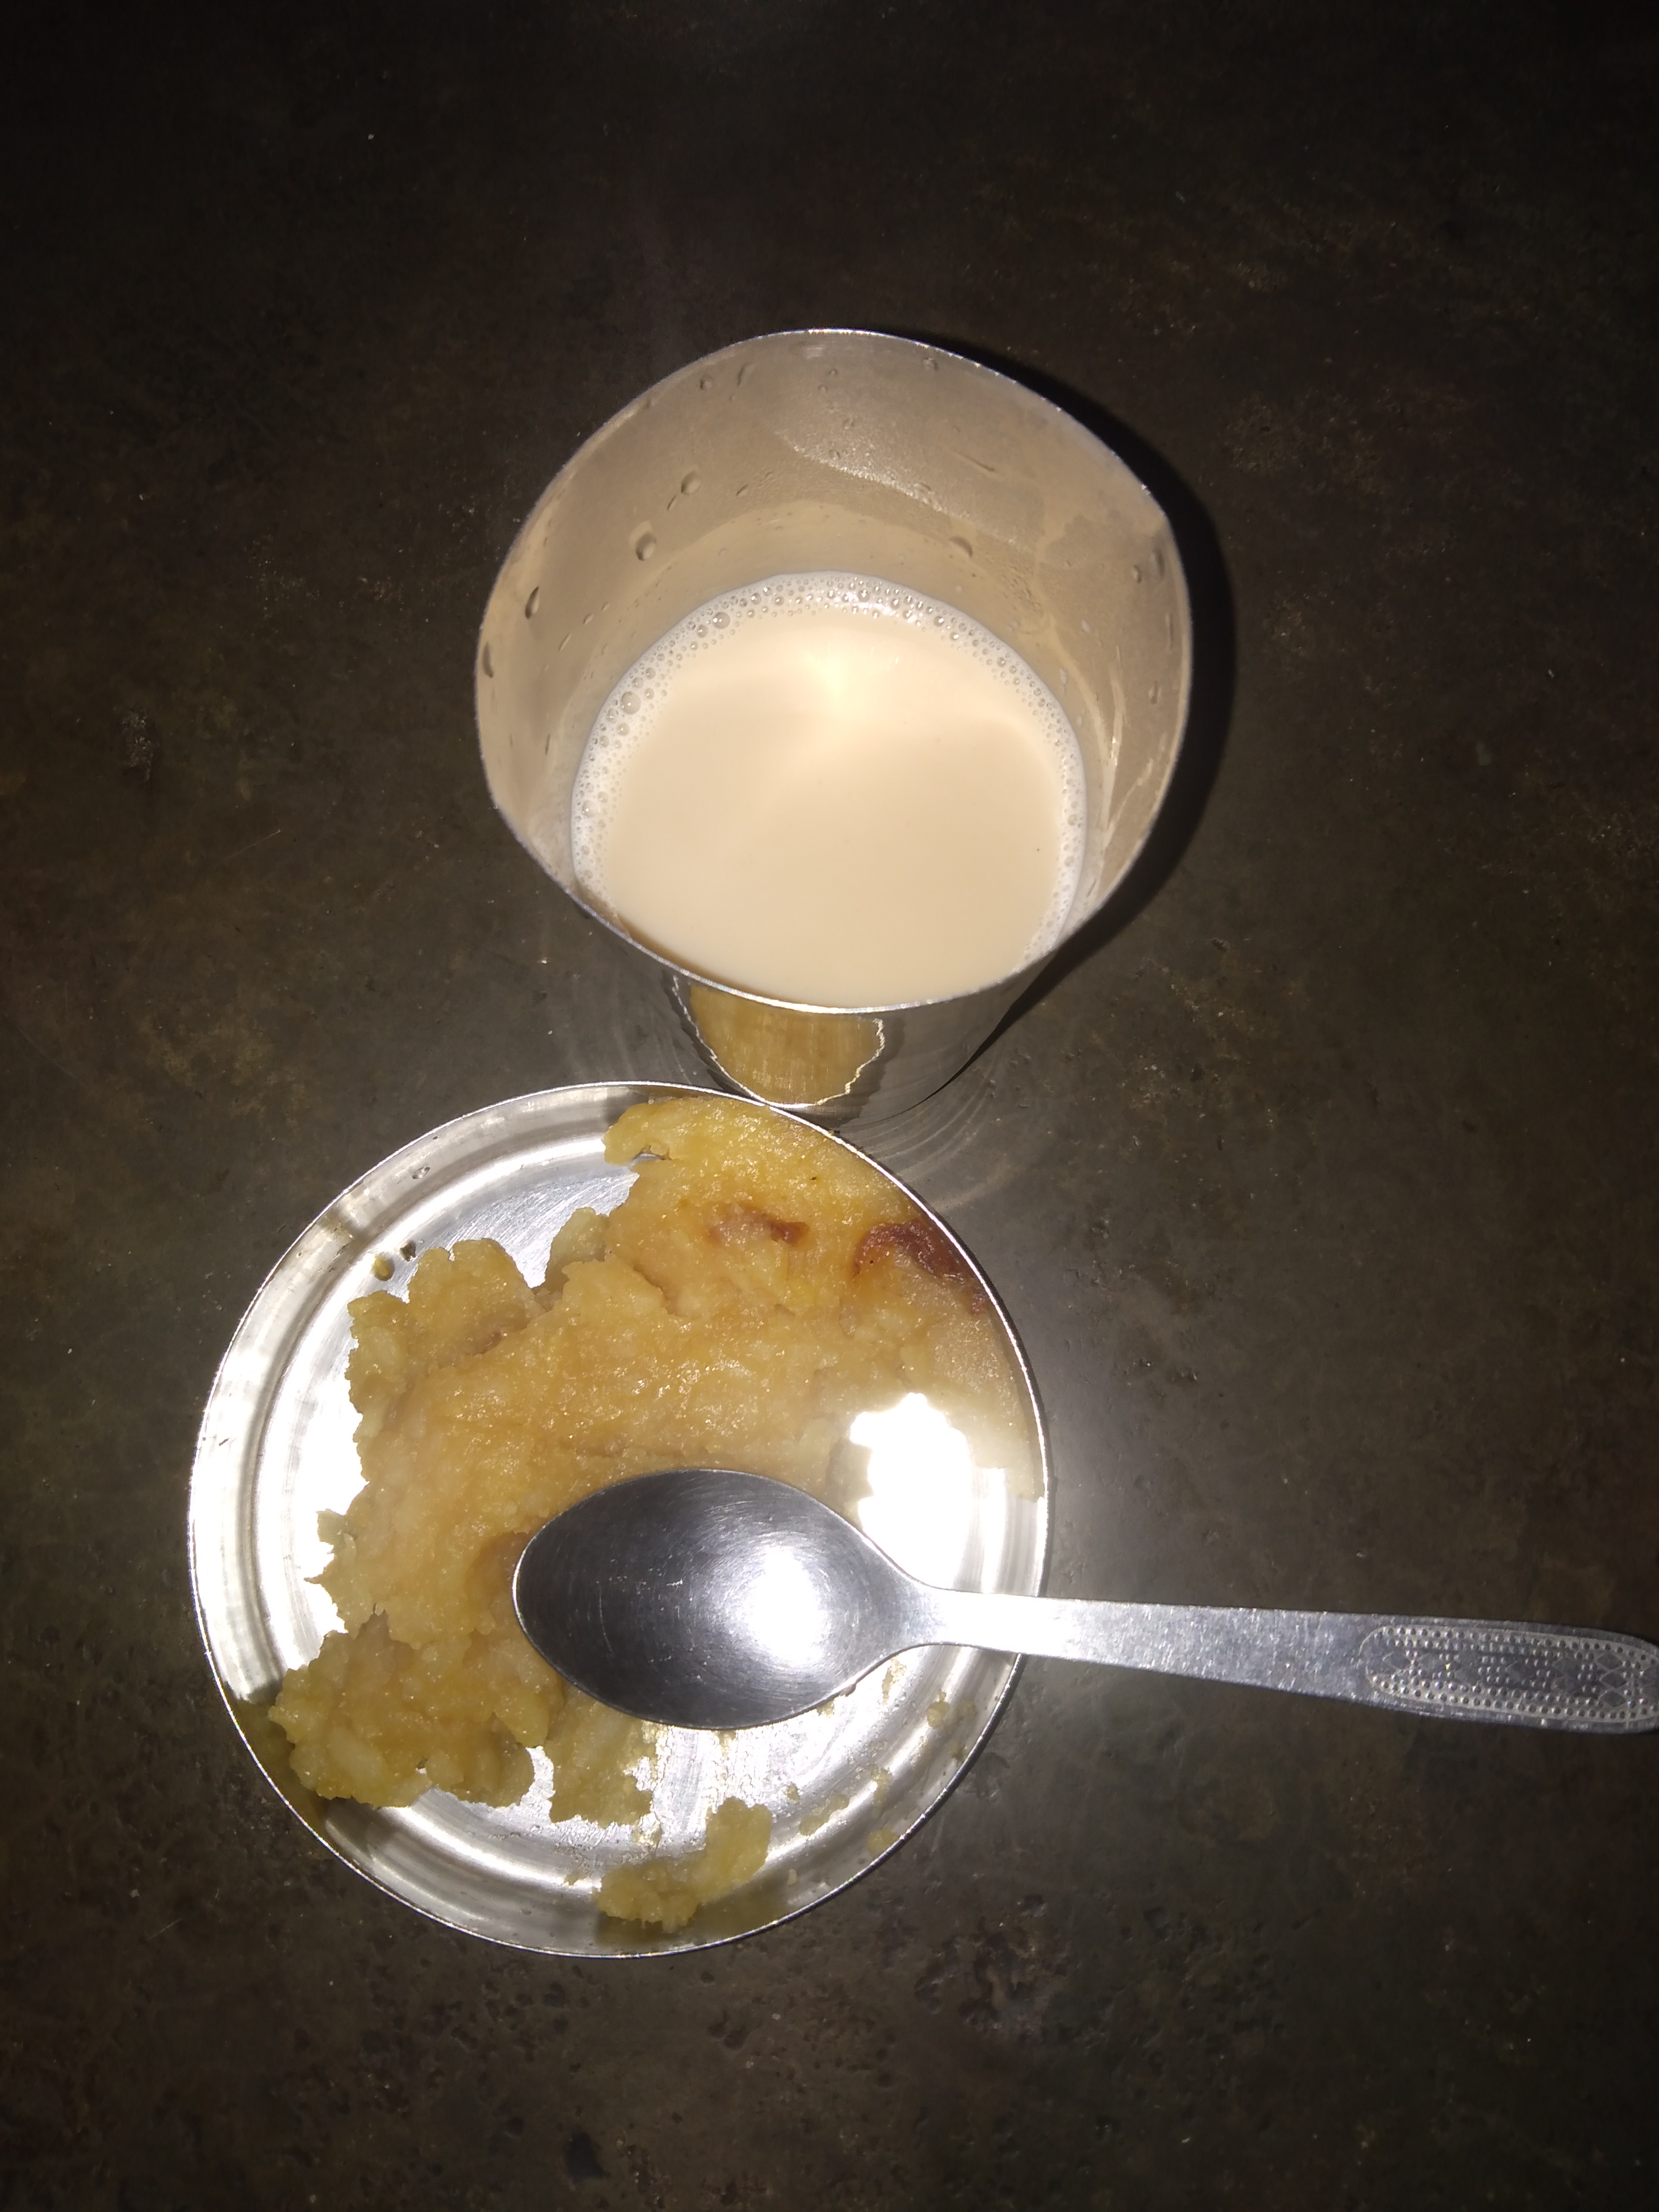food: (249, 1080, 1054, 1937), (545, 547, 1124, 1005)
